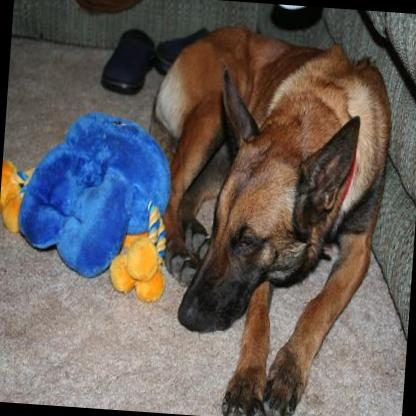malinois: (127, 16, 398, 416)
